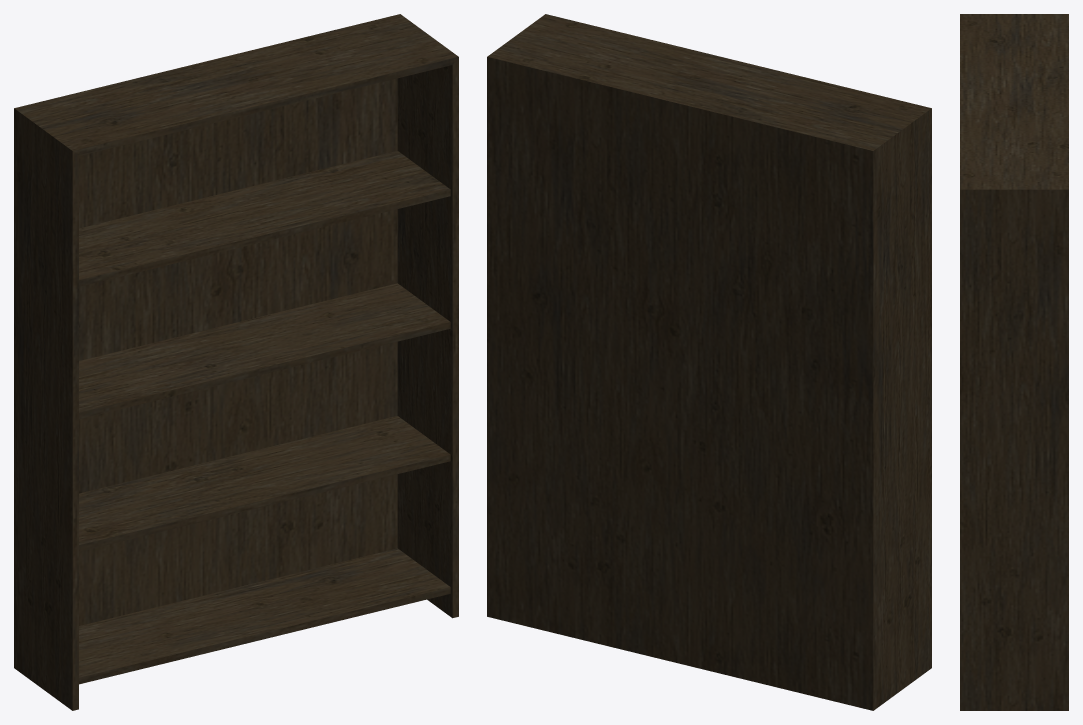
File: shelf_mp_5_4.obj
The picture shows the model from 3 angles, left to right: view 1: azimuth 30°, elevation 25°; view 2: azimuth 150°, elevation 25°; view 3: azimuth 270°, elevation 25°; orthographic projection. The views are drawn at different scales.
Visible parts, largest first — view 1: shelf_mp_5_4; view 2: shelf_mp_5_4; view 3: shelf_mp_5_4.
Part boxes in pixels (left/top/right/bottom): shelf_mp_5_4: left=14, top=14, right=458, bottom=710; shelf_mp_5_4: left=487, top=14, right=931, bottom=710; shelf_mp_5_4: left=960, top=14, right=1068, bottom=710.
Size of the model in its own units: 1.22 by 1.69 by 0.32.
